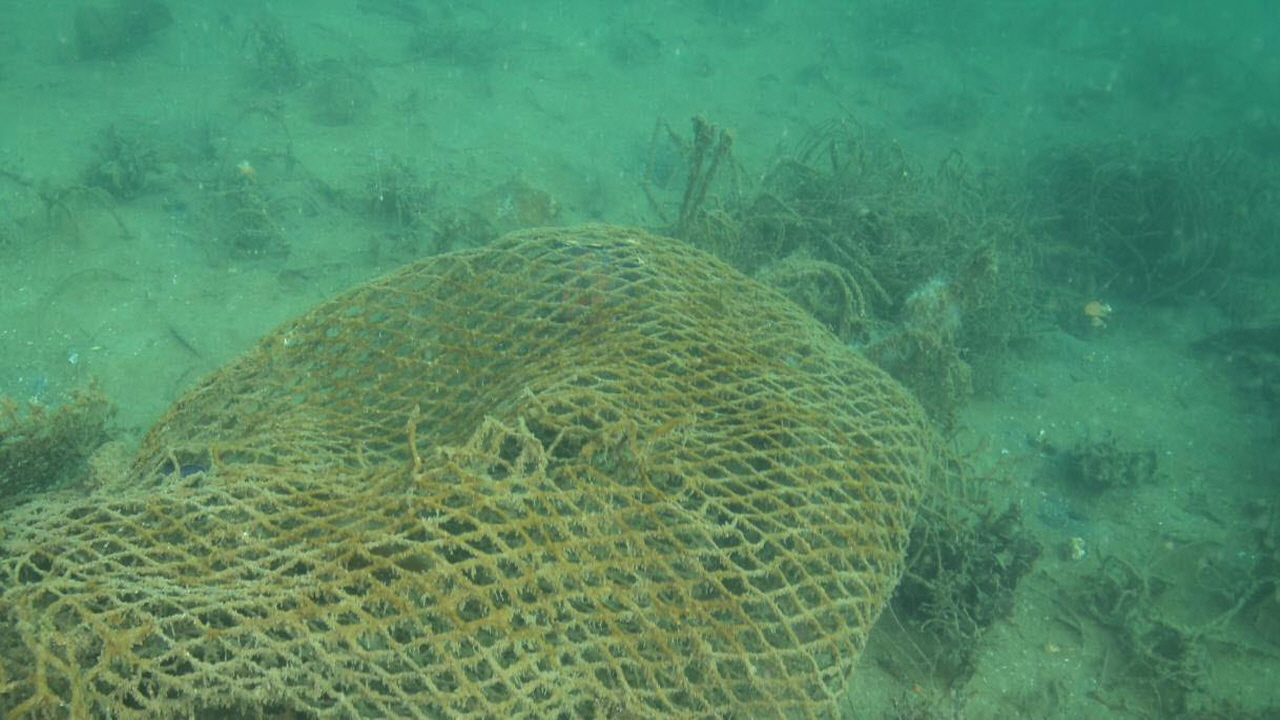fish net: (0, 223, 932, 720)
